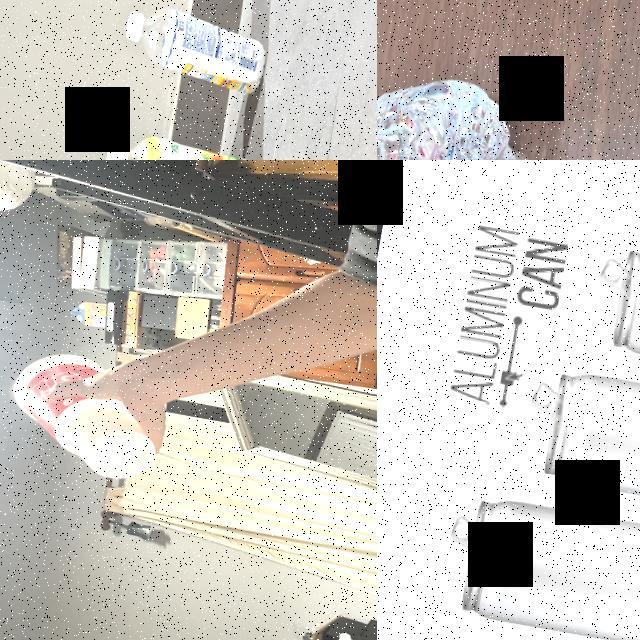bottle: (377, 47, 531, 160), (117, 0, 274, 100), (99, 128, 268, 160)
can: (453, 494, 640, 640), (542, 360, 640, 530)
cup: (0, 344, 167, 483)
